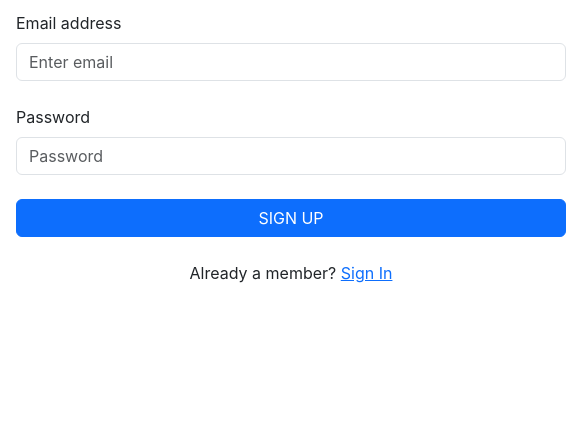
Test: Tests in SignUpPage › should render hint label with required input message for email when form is invalid
Click the button "SIGN UP" at (291, 218), box [16,199,566,237]
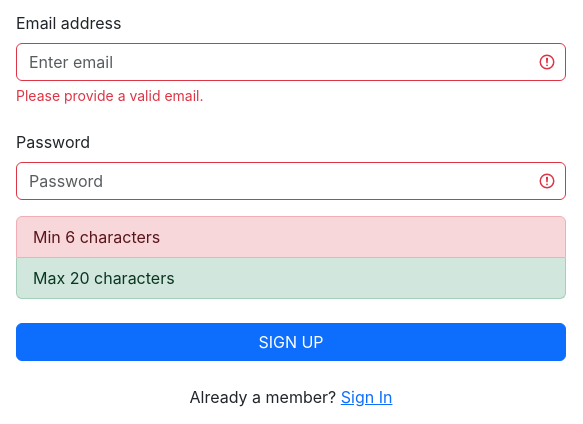
Result: the text "Please provide a valid email." is shown at [16,87,204,104]
